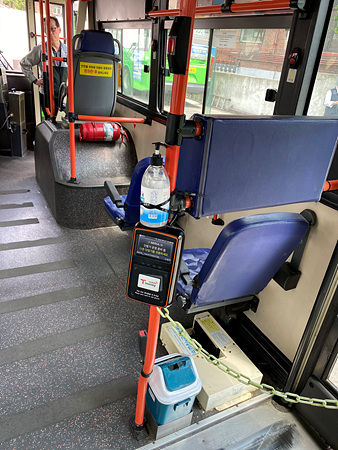terminal: (128, 227, 178, 306)
